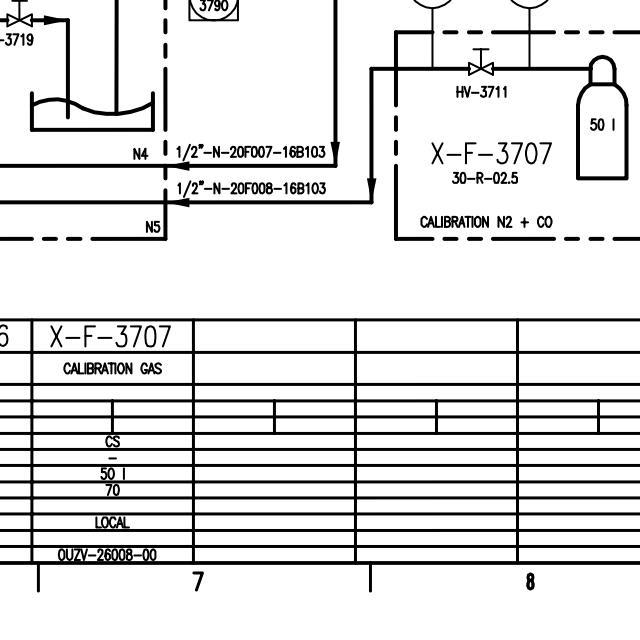HV: (465, 43, 497, 77), (5, 0, 37, 30)
